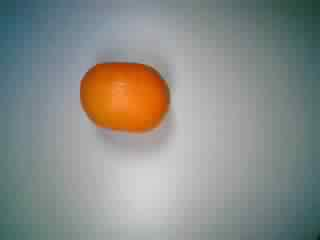orange: (80, 40, 171, 136)
